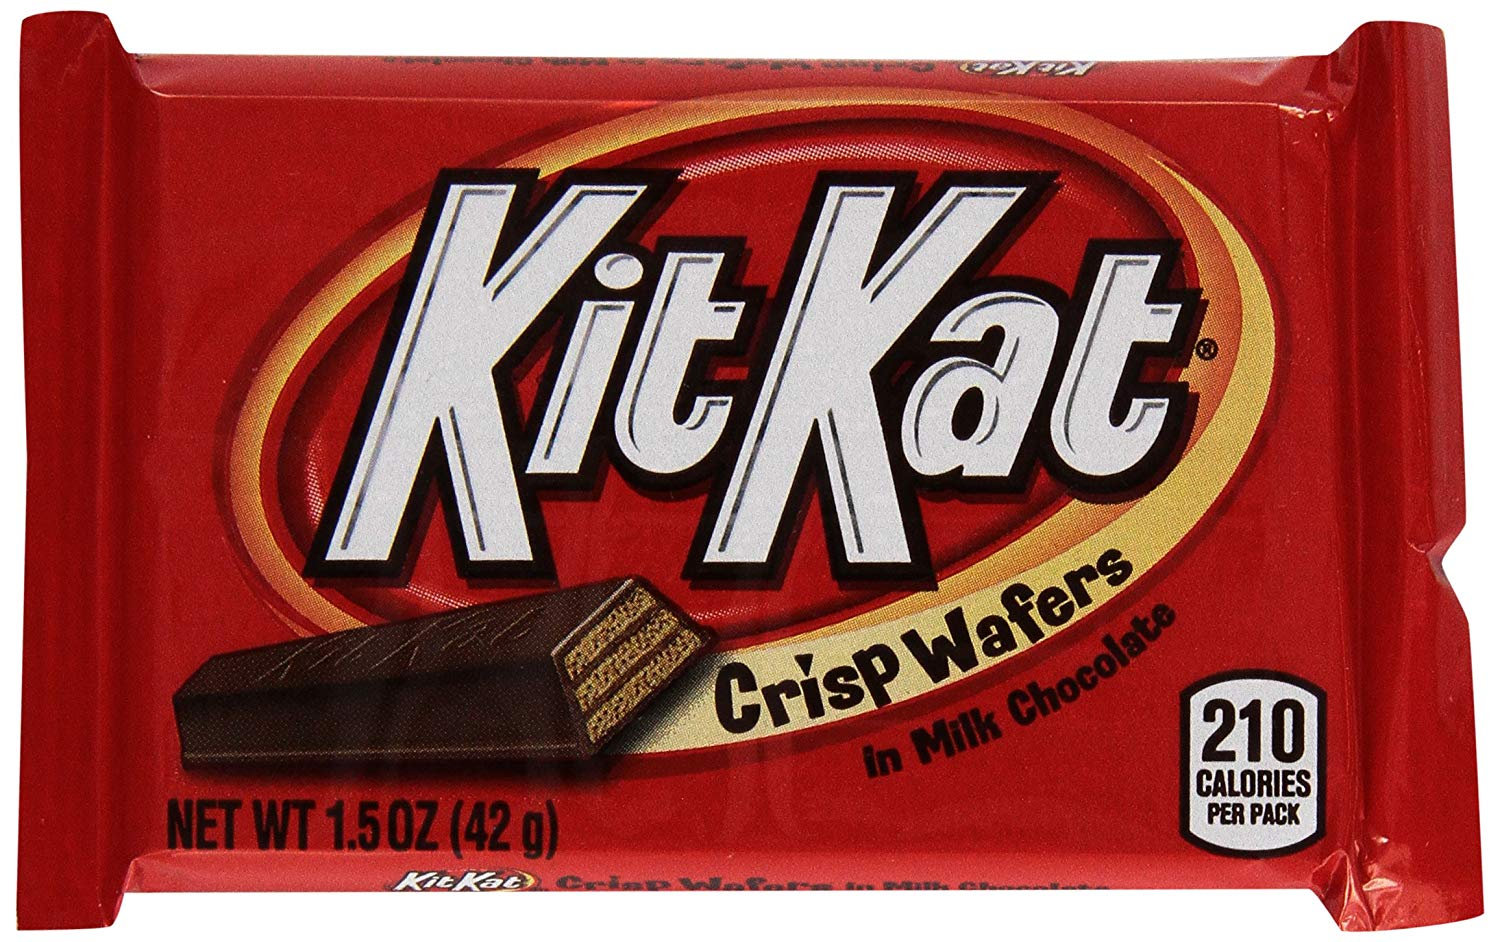kitkat: (24, 12, 1471, 926)
